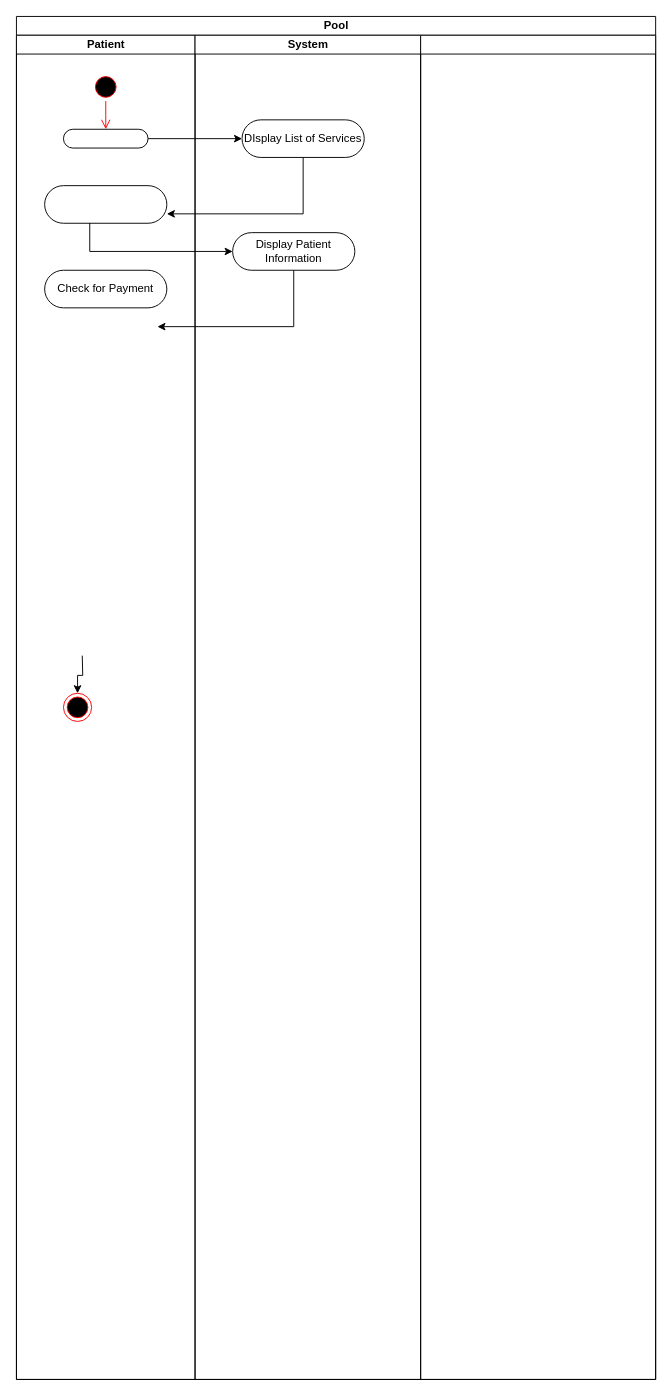
Some shapes in this 672 by 1396 pixel diagram are drawn without their labels. Here are the shapes that lost their labels. From the top down, the box of each, then its label:
(63, 128, 148, 148): Start
(44, 185, 167, 223): Request to Discharge Patient
(420, 34, 656, 1379): Executives
